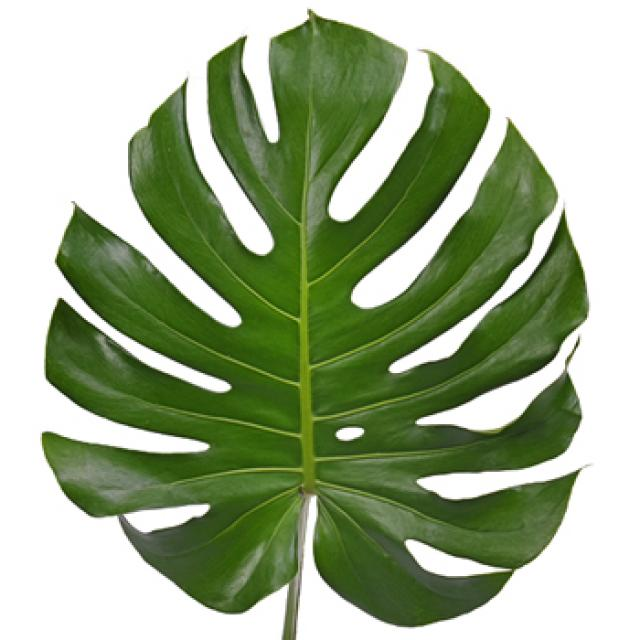green waste: (27, 5, 611, 605)
